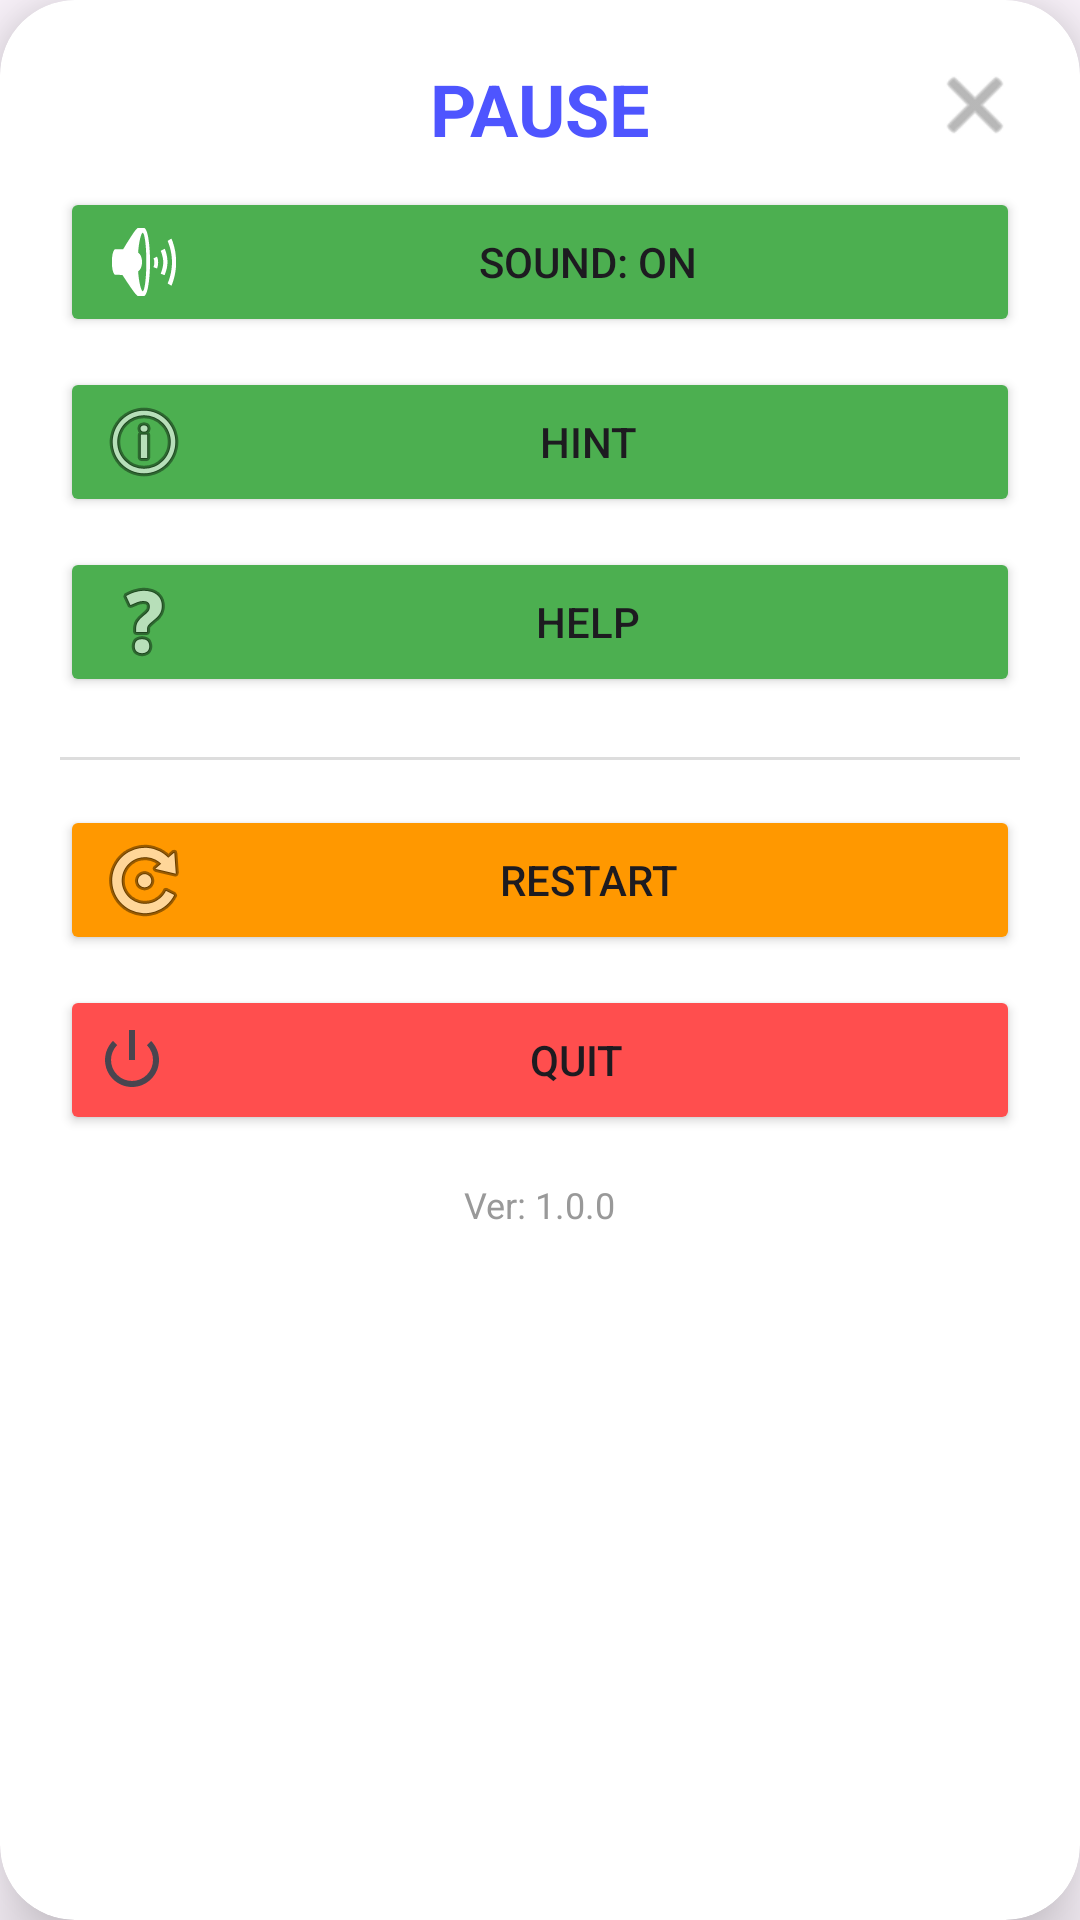

Where icons sit on this 1080px x 1920px app screen, as (x1, y1, x2, y2):
close clear cancel: (947, 77, 1003, 133)
